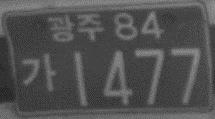1: (70, 48, 90, 108)
4: (101, 49, 133, 106), (140, 9, 164, 41)
7: (169, 46, 202, 106), (133, 47, 165, 107)
8: (112, 10, 138, 41)
가: (20, 52, 57, 94)
광주_O: (46, 12, 105, 44)
